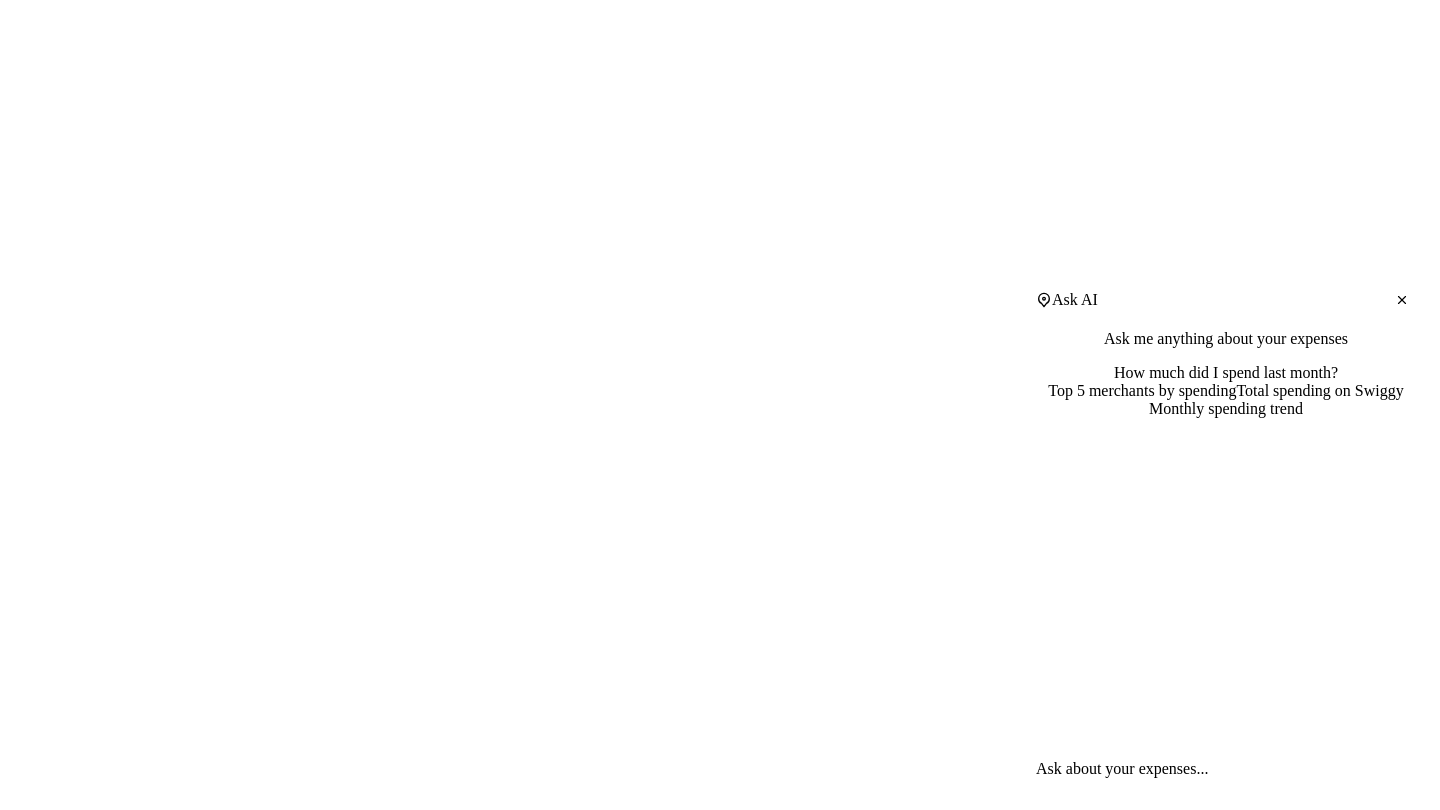
Test case: AskAI › should show SQL in collapsible details
This screenshot has width=1440, height=810.
In the field with placeholder "Ask about your expenses...": (1209, 769) x1=1036 y1=760 x2=1382 y2=778, type "show me something"
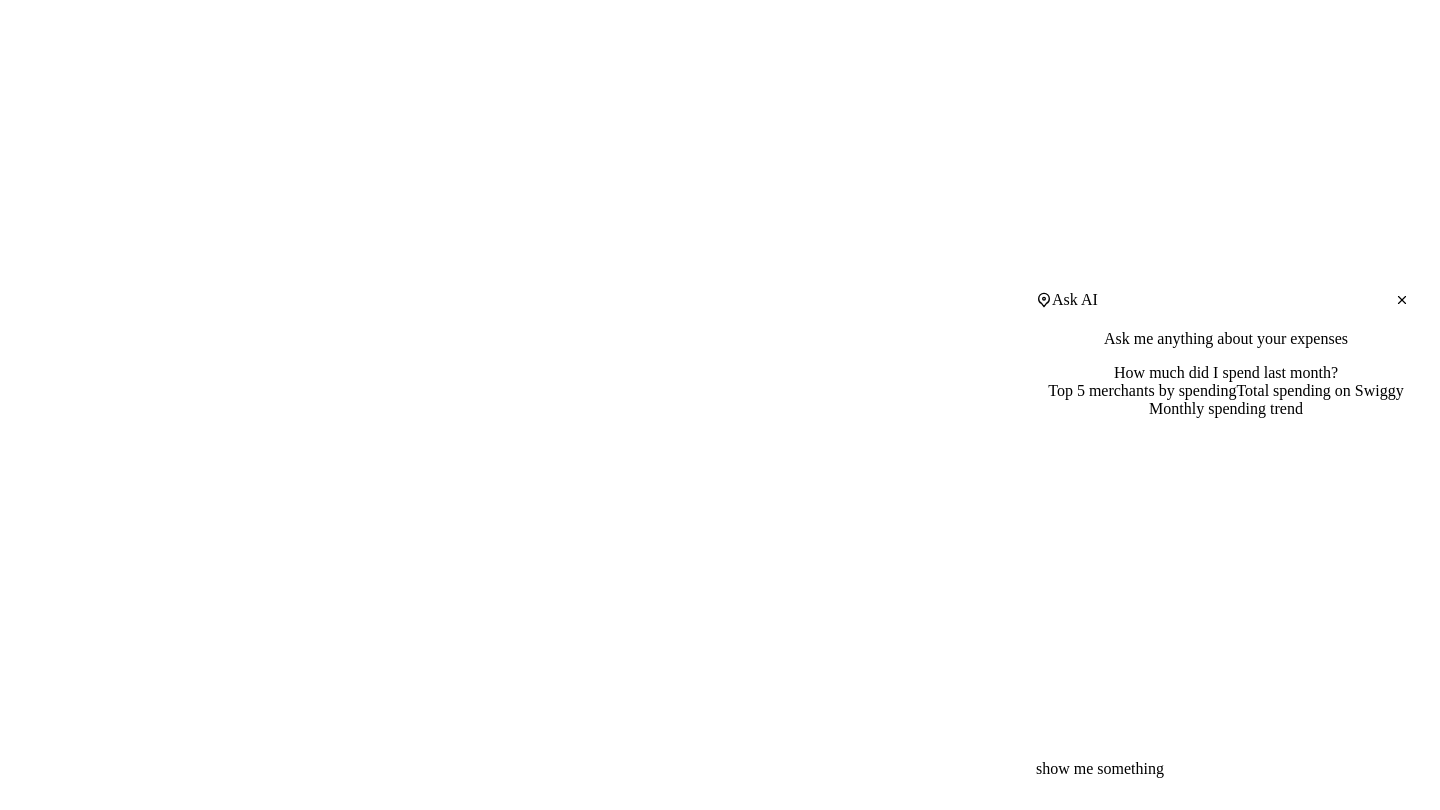
Press Enter
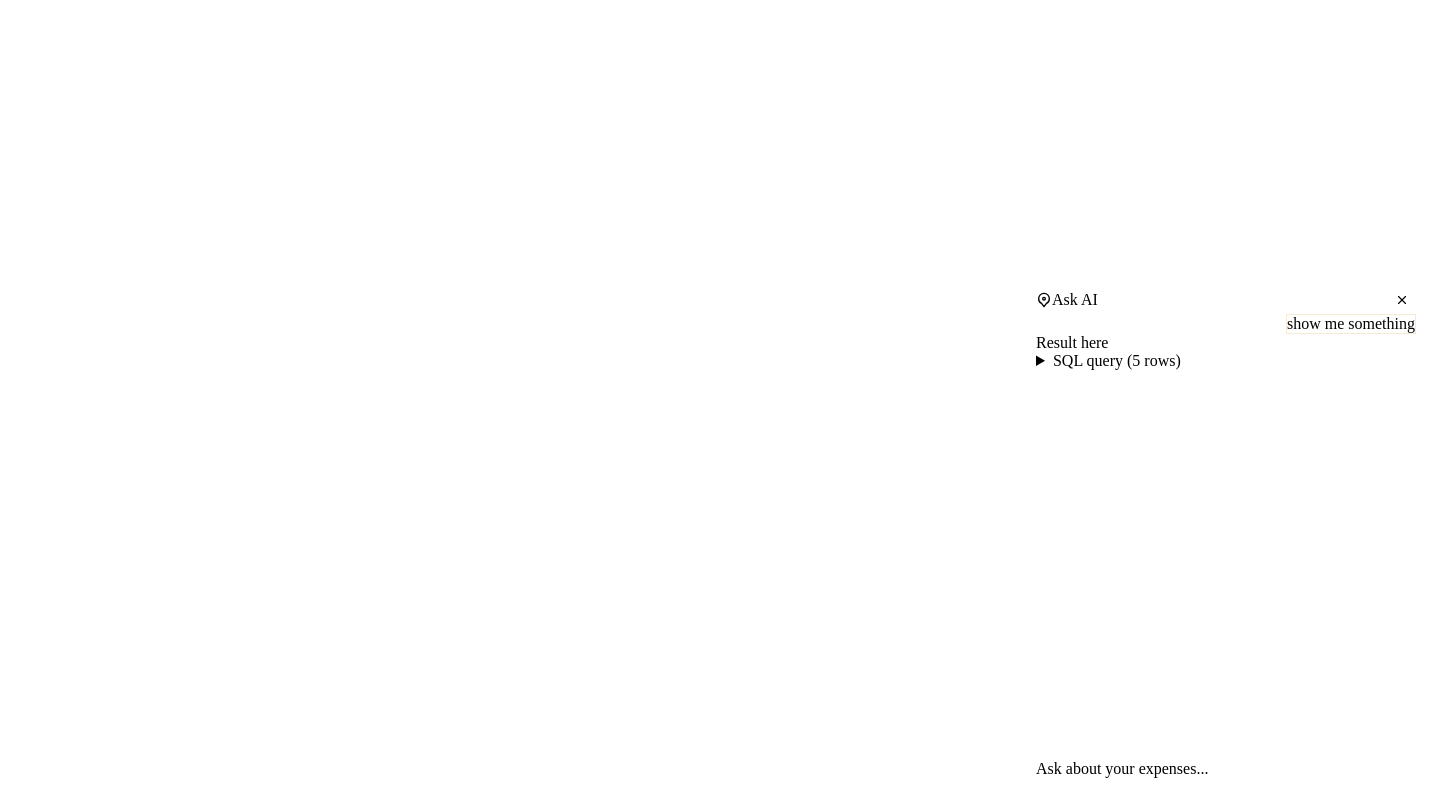
Result: the heading "SQL query (5 rows)" is shown at x1=1036 y1=352 x2=1181 y2=370
